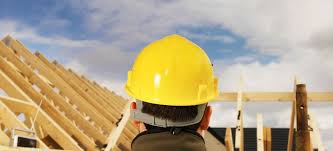Person_wearing_helmet: (121, 35, 220, 110)
